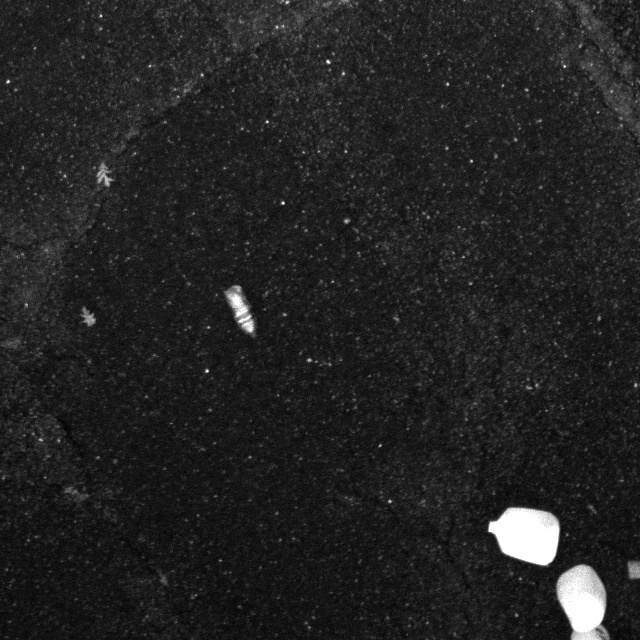bottle: (221, 283, 264, 341)
can: (487, 501, 559, 572), (550, 565, 609, 631)
